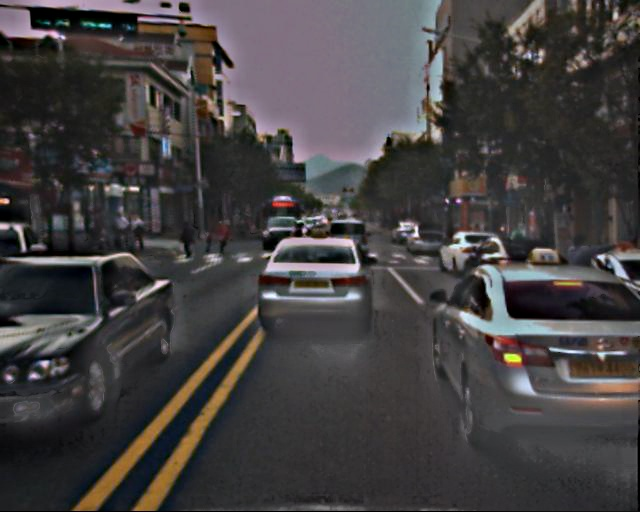person: (559, 233, 605, 345), (95, 206, 151, 256), (180, 218, 198, 262), (214, 218, 230, 256), (203, 229, 212, 252)
